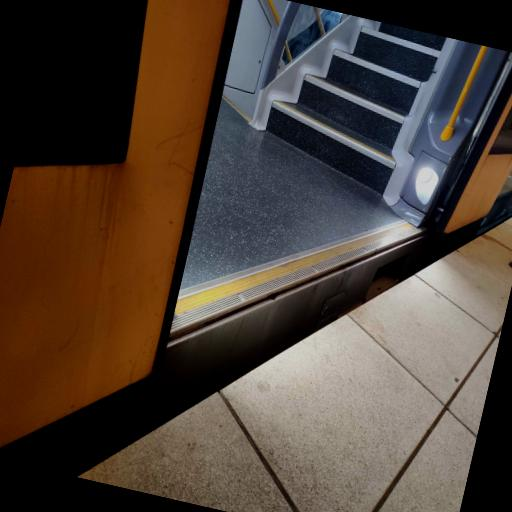gap: (0, 230, 471, 475)
